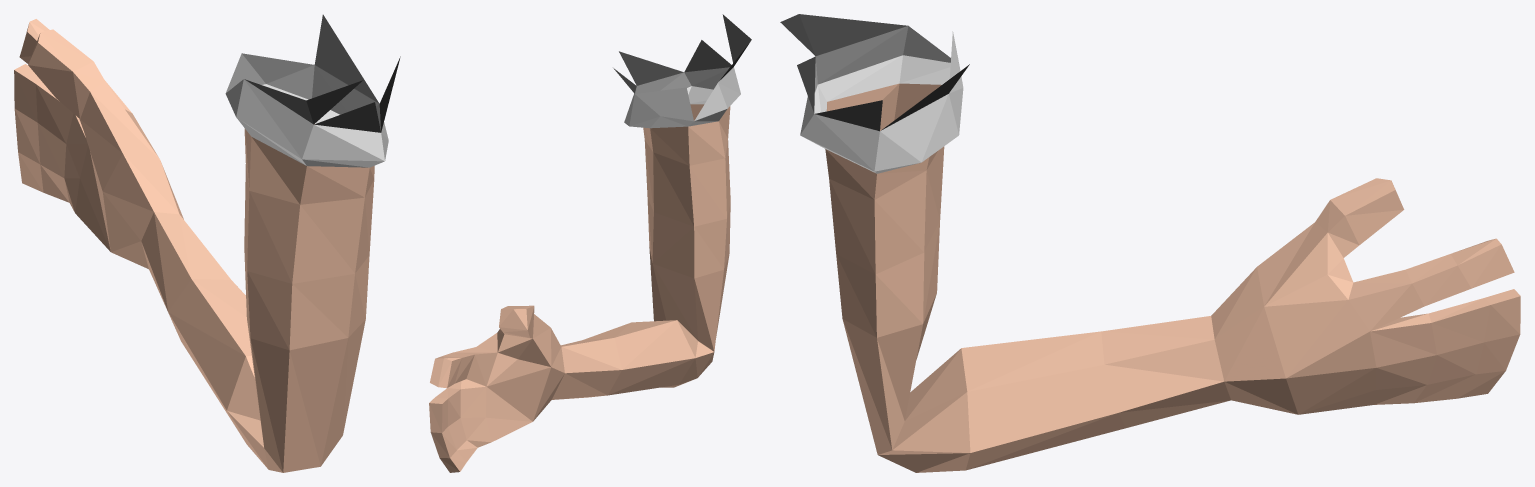
File: Mother_01_04_A_ArmR_104.obj
The picture shows the model from 3 angles, left to right: view 1: azimuth 30°, elevation 25°; view 2: azimuth 150°, elevation 25°; view 3: azimuth 270°, elevation 25°; orthographic projection. The views are drawn at different scales.
Visible parts, largest first — view 1: Mother_01_04_A_ArmR_104; view 2: Mother_01_04_A_ArmR_104; view 3: Mother_01_04_A_ArmR_104.
Boxes of the visible parts, left/top/right/bottom form: Mother_01_04_A_ArmR_104: left=14, top=14, right=400, bottom=472; Mother_01_04_A_ArmR_104: left=429, top=14, right=751, bottom=472; Mother_01_04_A_ArmR_104: left=780, top=14, right=1520, bottom=472.
Bounding box in the file's own units: 0.1419 × 0.3874 × 0.5781.
1 material, 1 textured.
